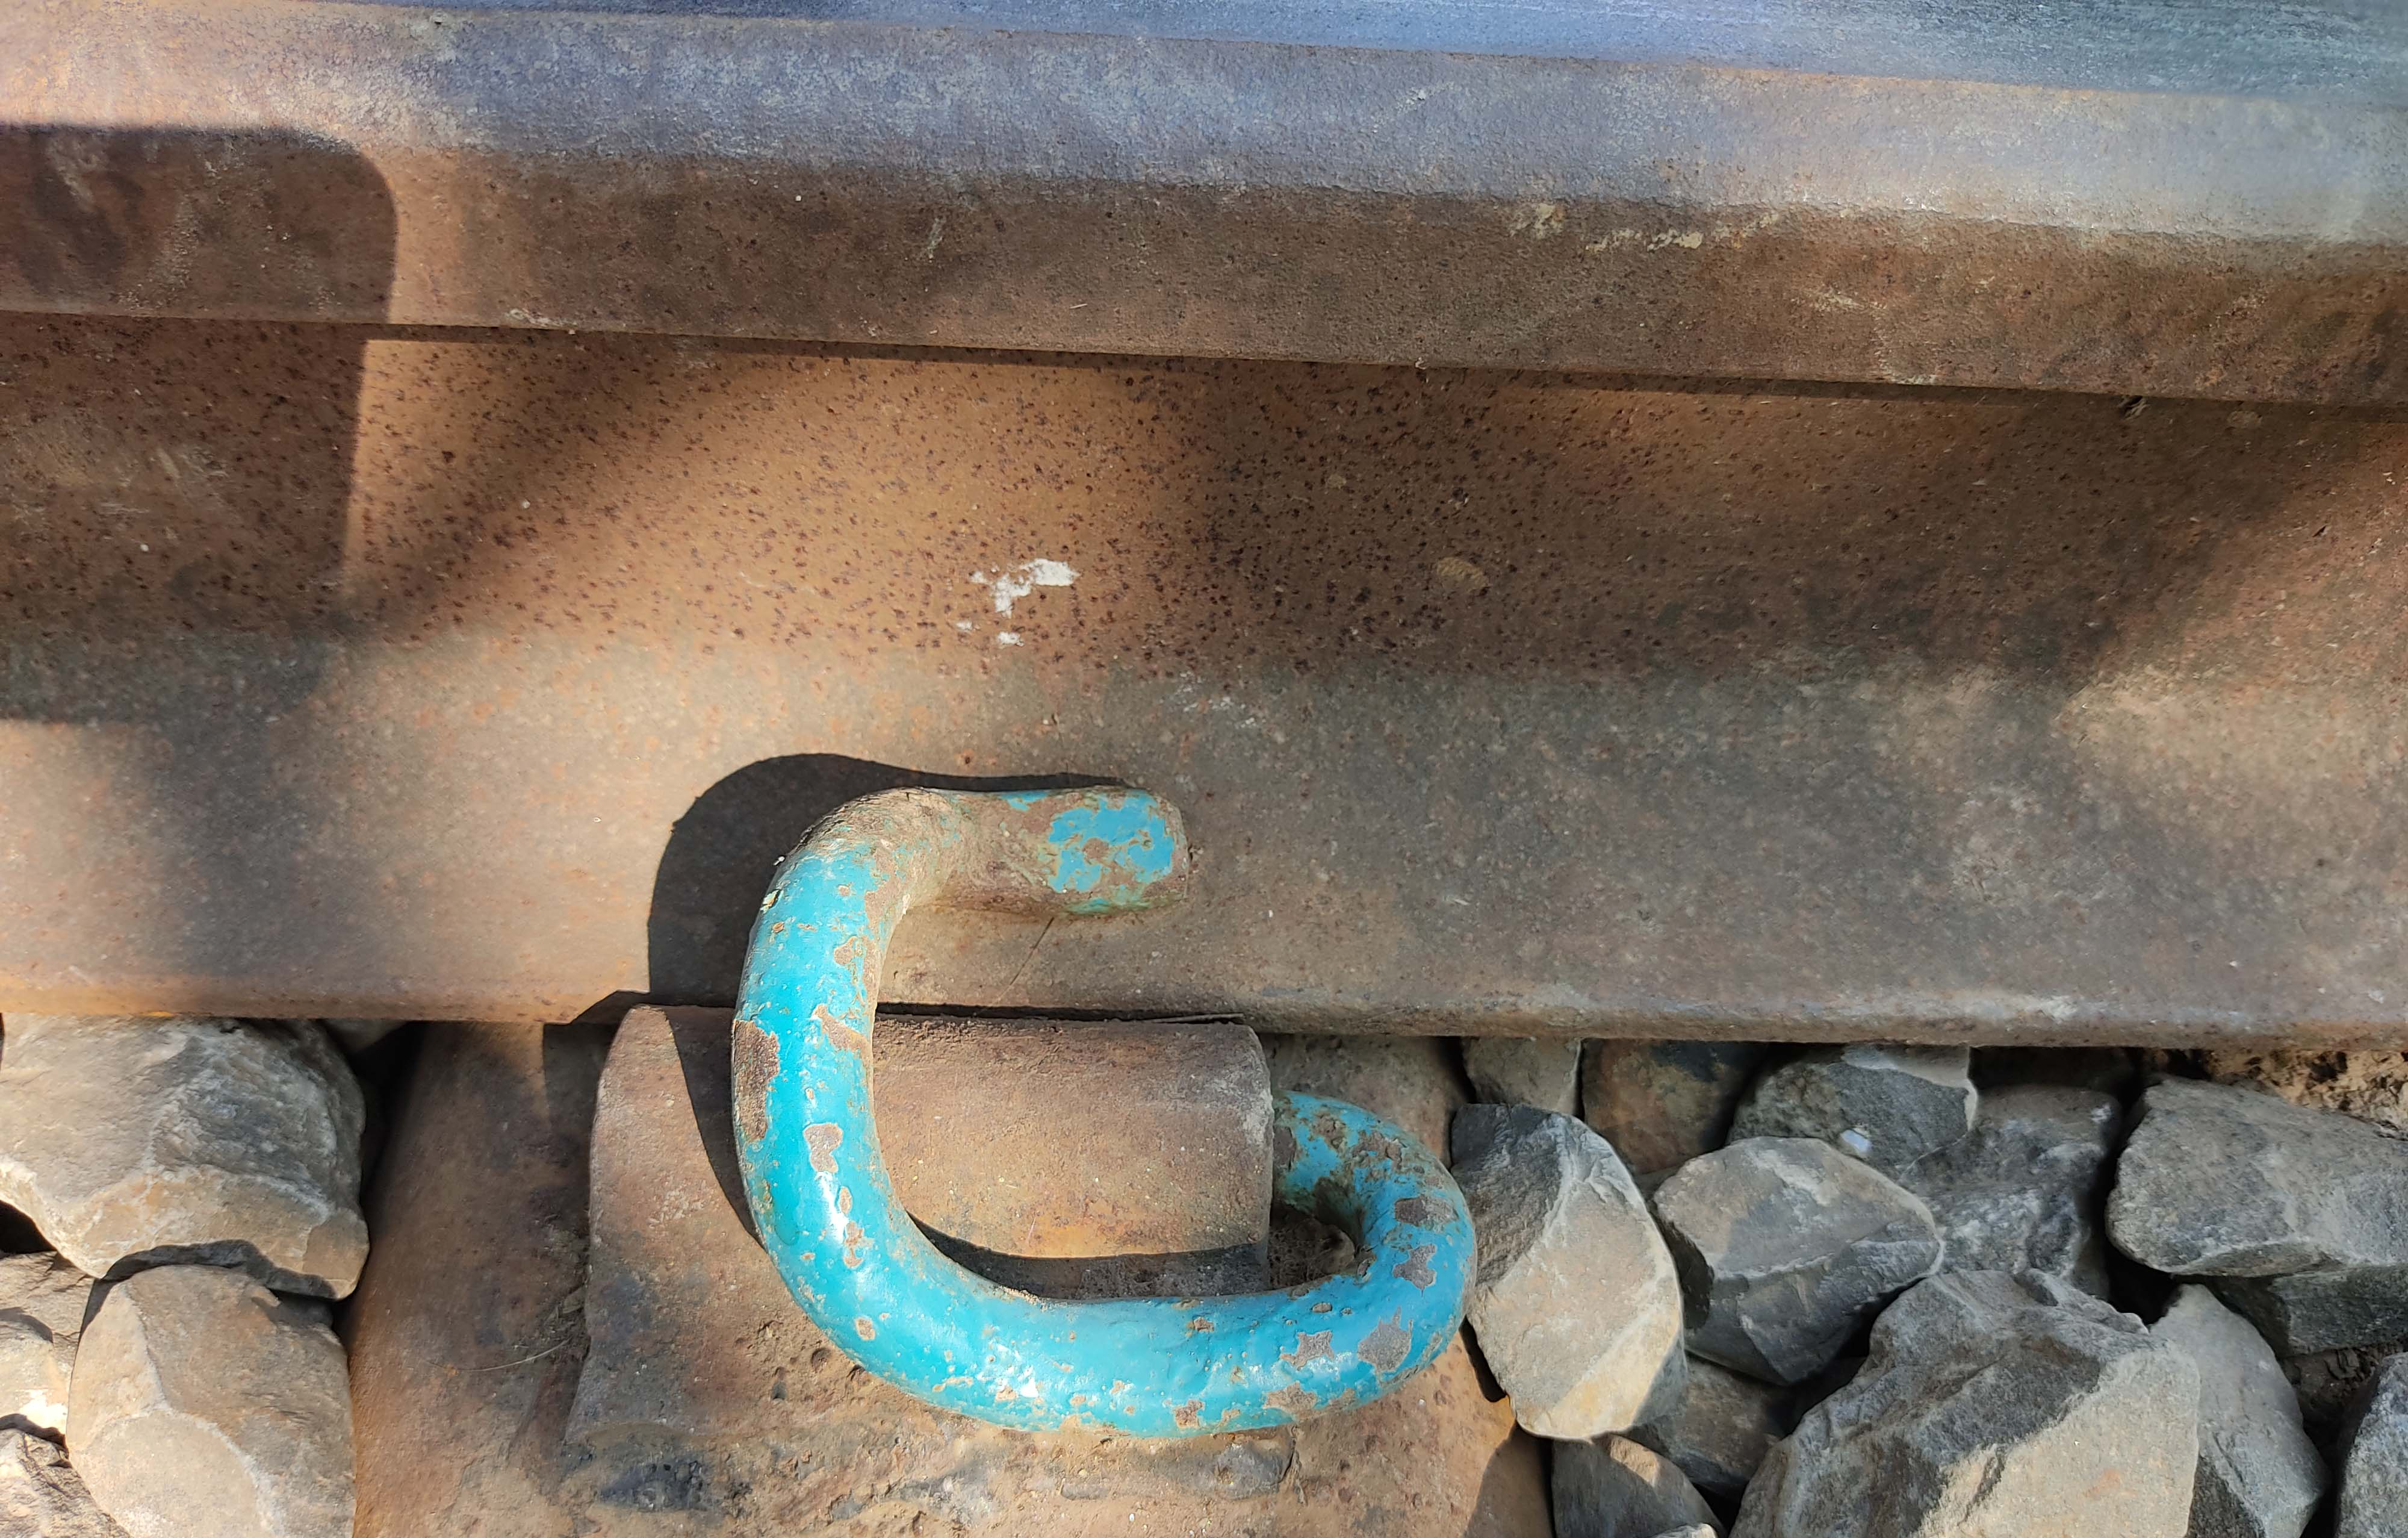error1: (744, 651, 1527, 1431)
